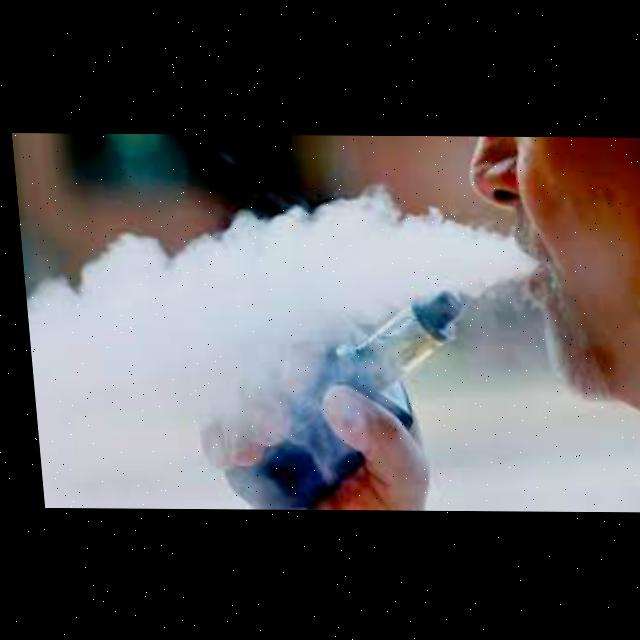vape: (196, 280, 474, 510)
